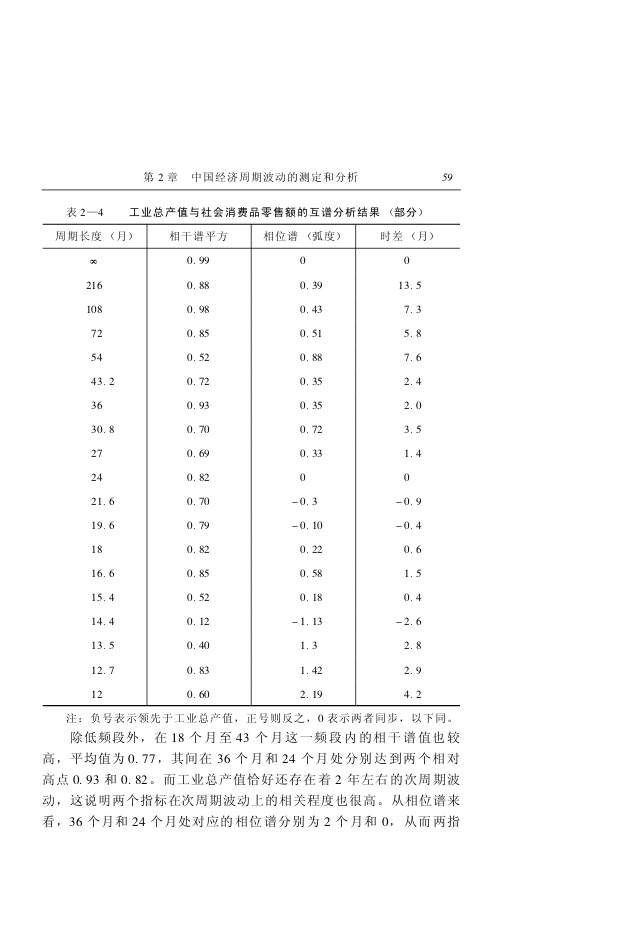table: (42, 224, 459, 706)
